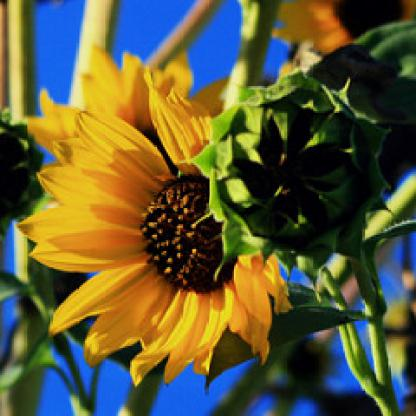SUN FLOWER: (22, 62, 316, 374)
